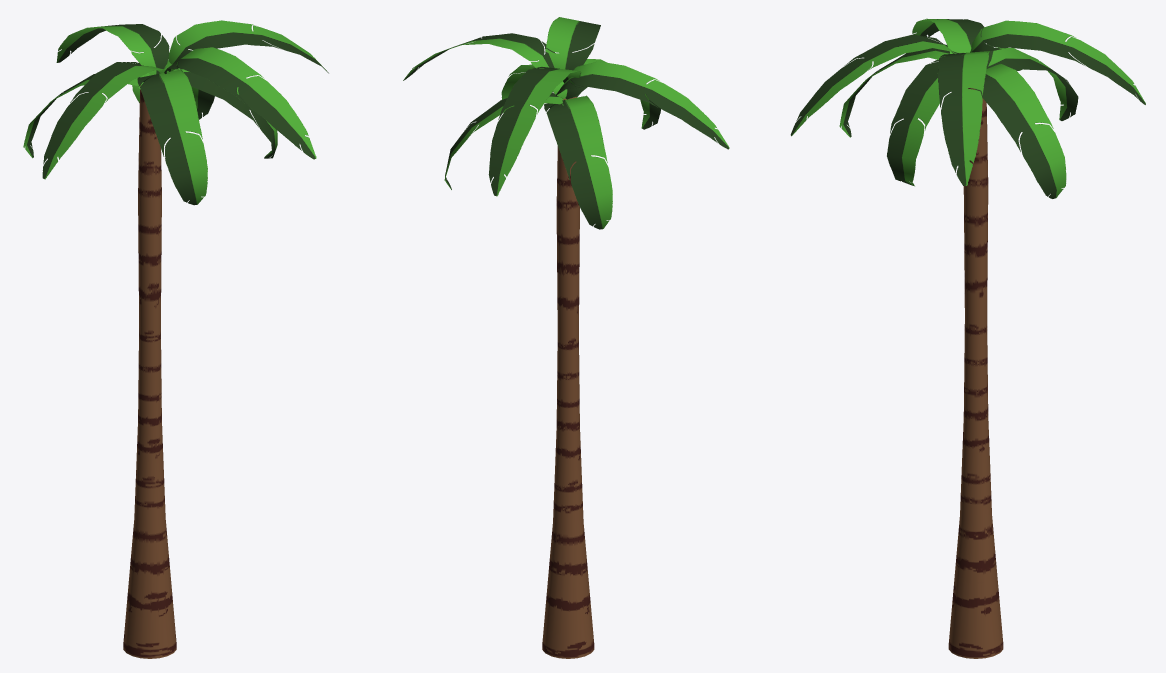
File: palm tree model 1 ver 3.FBX
3 renders of one model, left to right at view 1: azimuth 30°, elevation 25°; view 2: azimuth 150°, elevation 25°; view 3: azimuth 270°, elevation 25°, orthographic. The views are drawn at different scales.
Visible parts, largest first — view 1: Cylinder001, Plane021, Plane024, Plane022, Plane018, Plane023, Plane019, Plane020, Plane025; view 2: Cylinder001, Plane020, Plane023, Plane022, Plane024, Plane018, Plane025, Plane021, Plane019; view 3: Cylinder001, Plane025, Plane018, Plane023, Plane019, Plane024, Plane020, Plane022, Plane021.
Part boxes in pixels (x1,y1,x2,y2): Cylinder001: [123, 85, 176, 658]; Plane021: [137, 69, 207, 205]; Plane024: [164, 47, 316, 159]; Plane022: [42, 62, 169, 179]; Plane018: [168, 20, 328, 73]; Plane023: [56, 24, 169, 75]; Plane019: [164, 60, 277, 158]; Plane020: [23, 73, 143, 158]; Plane025: [132, 60, 214, 119]; Cylinder001: [542, 97, 594, 658]; Plane020: [544, 95, 612, 229]; Plane023: [488, 67, 581, 196]; Plane022: [556, 61, 729, 149]; Plane024: [545, 17, 600, 70]; Plane018: [403, 33, 554, 80]; Plane025: [444, 91, 563, 189]; Plane021: [565, 59, 660, 129]; Plane019: [501, 64, 580, 105]; Cylinder001: [948, 88, 1003, 658]; Plane025: [975, 63, 1066, 198]; Plane018: [937, 51, 989, 185]; Plane023: [970, 20, 1145, 104]; Plane019: [887, 59, 939, 186]; Plane024: [790, 34, 954, 136]; Plane020: [987, 47, 1078, 120]; Plane022: [912, 18, 993, 68]; Plane021: [839, 44, 958, 137].
Size of the model in its own units: 207 by 362 by 201.
